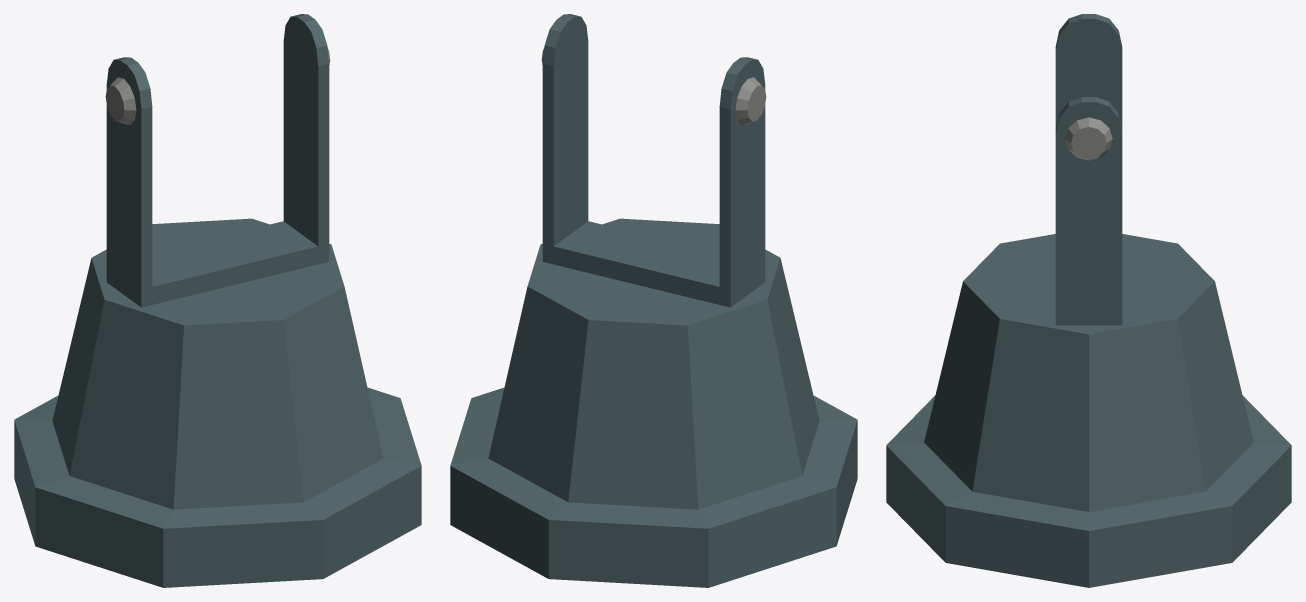
File: Gatling Platform.fbx
3 renders of one model, left to right at view 1: azimuth 30°, elevation 25°; view 2: azimuth 150°, elevation 25°; view 3: azimuth 270°, elevation 25°, orthographic. The views are drawn at different scales.
Visible parts, largest first — view 1: Gatling Platform; view 2: Gatling Platform; view 3: Gatling Platform.
Part boxes in pixels (<box>): Gatling Platform: <box>14,14,421,587</box>; Gatling Platform: <box>450,14,857,587</box>; Gatling Platform: <box>886,14,1291,587</box>.
Bounding box in the file's own units: 109 × 133 × 109.
